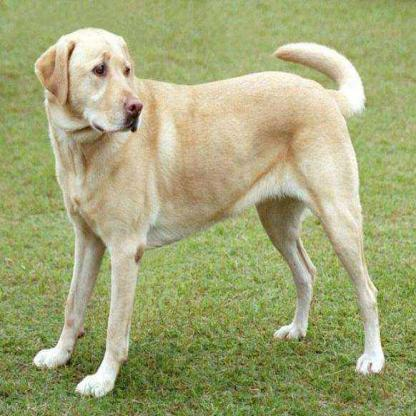Labarador Retriever: (32, 24, 383, 400)
